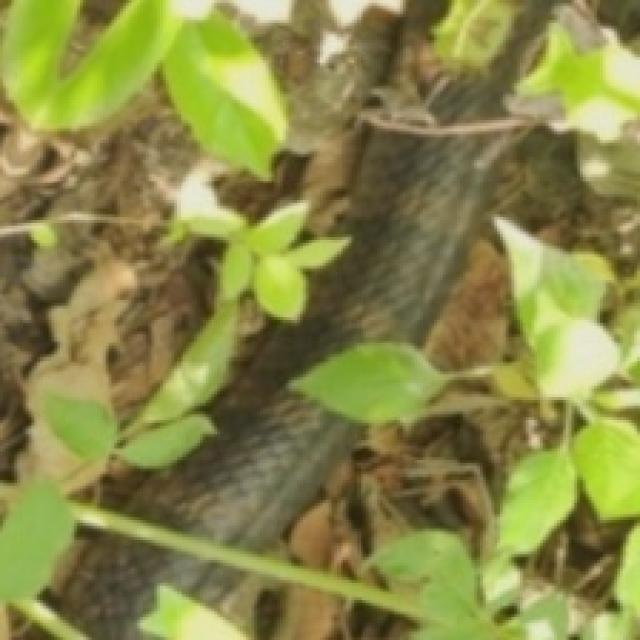king cobra: (0, 0, 637, 637), (489, 211, 620, 394), (517, 280, 540, 334)
